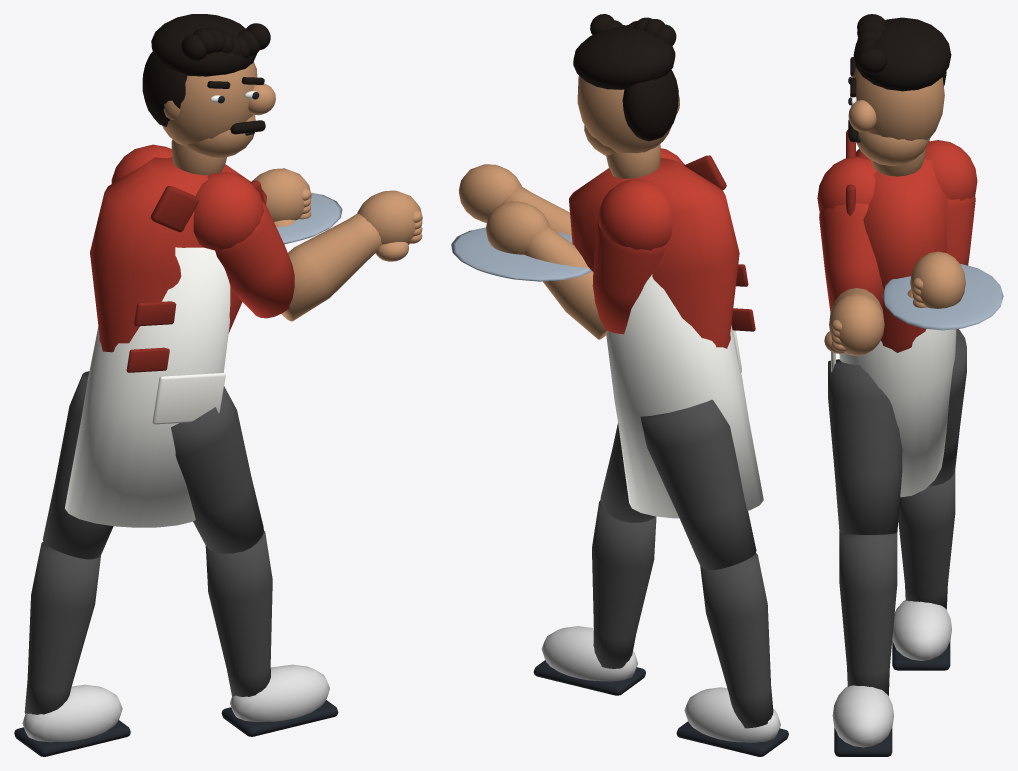
Rendered from adem.glb.
3 views of the same model, side by side, from view 1: azimuth 30°, elevation 25°; view 2: azimuth 150°, elevation 25°; view 3: azimuth 270°, elevation 25° (orthographic). The views are drawn at different scales.
Parts seen in each view (by area): view 1: Work apron.001, Fitted torso.011, Trouser thigh.022, Lower leg.023, Lower leg.022, Forearm.022, Upper arm.022, Trouser thigh.023, Rounded shoulder.022, Head.011, Boot.022, Boot.023 (+14 smaller); view 2: Work apron.001, Fitted torso.011, Trouser thigh.023, Lower leg.023, Lower leg.022, Hair crown.010, Upper arm.023, Rounded shoulder.023, Forearm.023, Steel serving tray, Head.011, Boot.022 (+10 smaller); view 3: Trouser thigh.022, Work apron.001, Fitted torso.011, Lower leg.022, Lower leg.023, Hair crown.010, Upper arm.022, Steel serving tray, Head.011, Boot.022, Boot.023, Closed fist.022 (+11 smaller).
Part boxes in pixels (box(x1,y1,x2,y2)): Work apron.001: box(65, 247, 230, 527); Fitted torso.011: box(90, 157, 266, 352); Trouser thigh.022: box(171, 386, 263, 553); Lower leg.023: box(24, 542, 100, 714); Lower leg.022: box(205, 531, 272, 696); Forearm.022: box(281, 213, 381, 321); Upper arm.022: box(215, 201, 294, 318); Trouser thigh.023: box(42, 371, 113, 559); Rounded shoulder.022: box(193, 171, 264, 251); Head.011: box(162, 62, 257, 147); Boot.022: box(230, 664, 329, 721); Boot.023: box(22, 684, 122, 742); Work apron.001: box(606, 274, 763, 518); Fitted torso.011: box(569, 157, 739, 348); Trouser thigh.023: box(640, 399, 756, 569); Lower leg.023: box(700, 553, 773, 728); Lower leg.022: box(592, 500, 656, 668); Hair crown.010: box(573, 27, 675, 89); Upper arm.023: box(592, 220, 666, 334); Rounded shoulder.023: box(599, 178, 673, 250); Forearm.023: box(524, 226, 608, 339); Steel serving tray: box(451, 227, 591, 281); Head.011: box(577, 76, 671, 153); Boot.022: box(541, 626, 637, 681); Trouser thigh.022: box(828, 359, 902, 534); Work apron.001: box(839, 329, 956, 497); Fitted torso.011: box(856, 149, 947, 352); Lower leg.022: box(839, 532, 897, 695); Lower leg.023: box(898, 469, 955, 609); Hair crown.010: box(853, 17, 951, 91); Upper arm.022: box(819, 203, 884, 312); Steel serving tray: box(882, 263, 1003, 330); Head.011: box(850, 67, 944, 140); Boot.022: box(832, 685, 893, 747); Boot.023: box(892, 600, 951, 660); Closed fist.022: box(829, 293, 884, 355).
Bounding box in the file's own units: 81.08 × 151 × 36.92.
